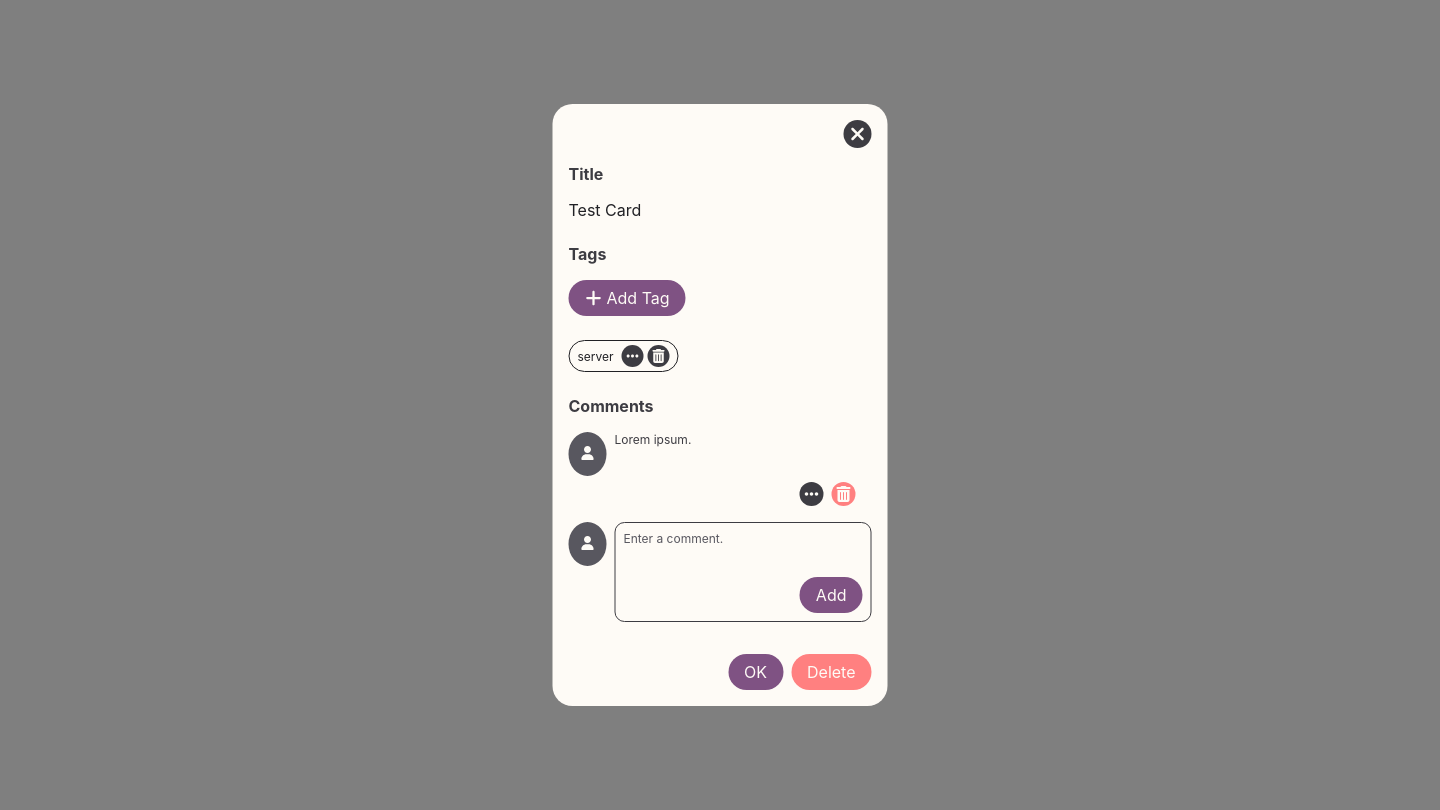
it: card info modal › delete comment
Click the button named "delete-comment" at (844, 494), box top-left (832, 482), bottom-right (856, 506)
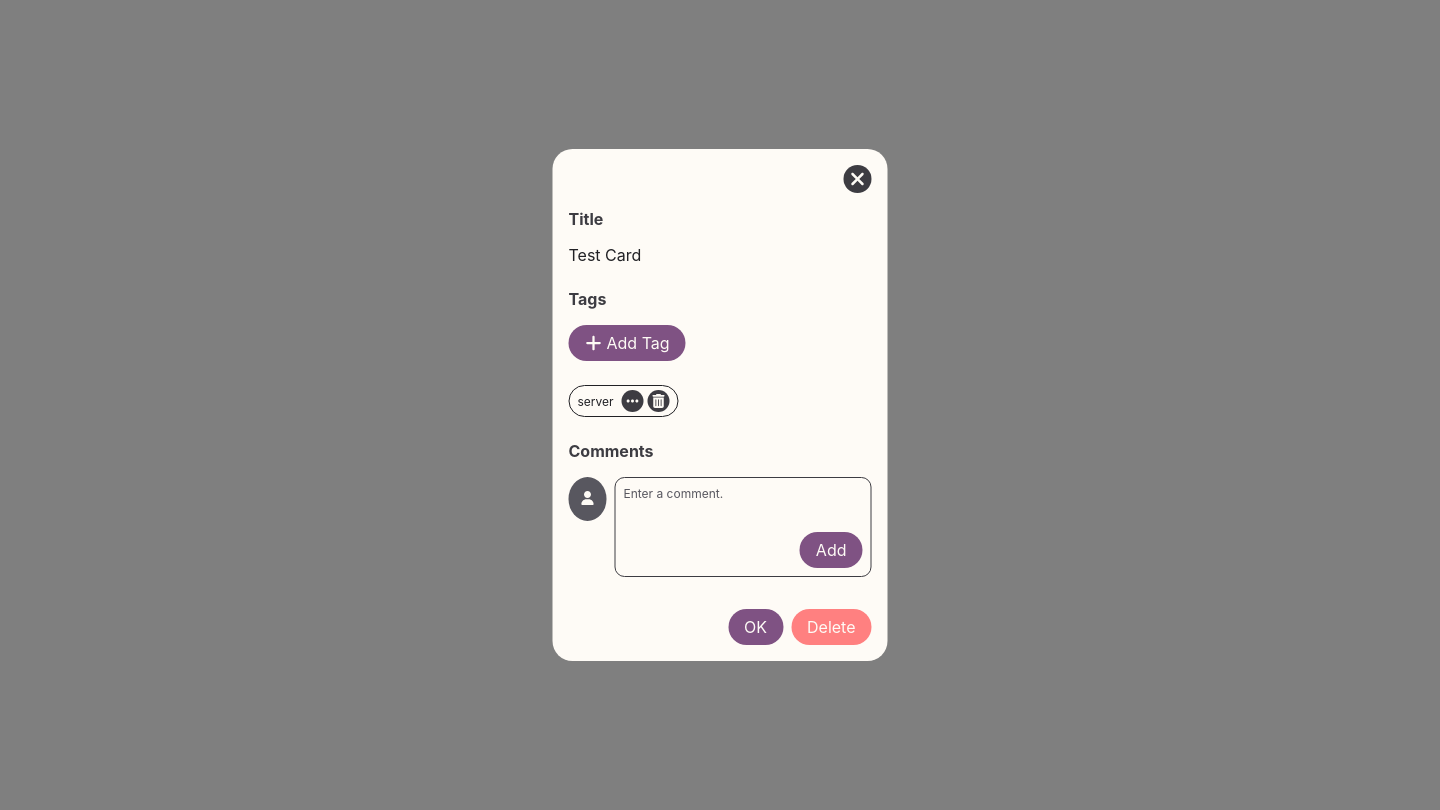
Check: the text "Lorem ipsum." is gone
